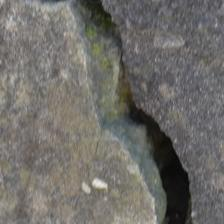Crack: (67, 7, 199, 219)
